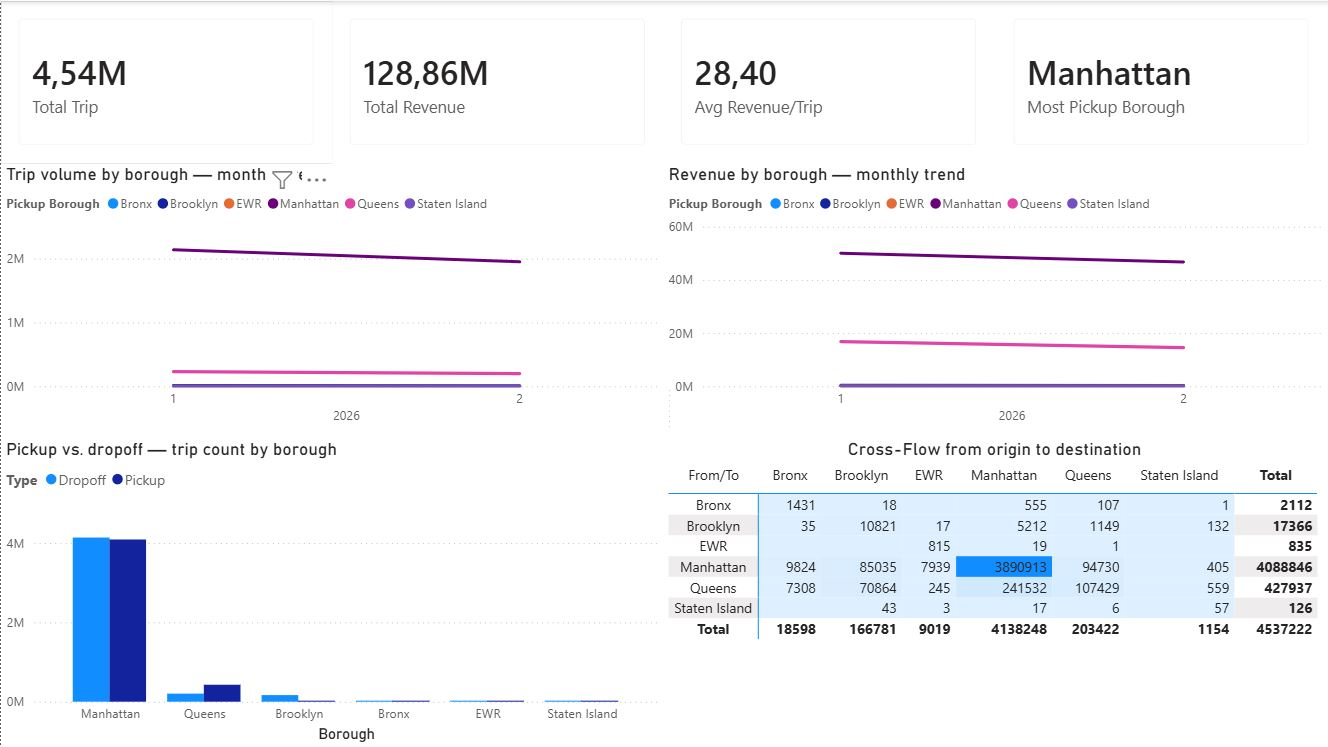

The page's visual inventory and layout, read from the dashboard file:
{"tool":"powerbi","page":{"name":"Page 1","canvas":[1280,720],"ordinal":0},"visuals":[{"type":"lineChart","title":"Trip volume by borough — monthly trend","fields":{"Series":["agg_yellow_taxi_borough_monthly.pickup_borough"],"Category":["agg_yellow_taxi_borough_monthly.pickup_year","agg_yellow_taxi_borough_monthly.pickup_month"],"Y":["Sum(agg_yellow_taxi_borough_monthly.total_trips)"]},"box":[0,156.4,639.5,266.2],"z":0},{"type":"clusteredColumnChart","title":"Pickup vs. dropoff — trip count by borough","fields":{"Y":["Sum(Borough_Comparison.Trips)"],"Category":["Borough_Comparison.Borough"],"Series":["Borough_Comparison.Type"]},"box":[0,422.6,639.5,297.8],"z":1000},{"type":"lineChart","title":"Revenue by borough — monthly trend","fields":{"Category":["agg_yellow_taxi_borough_monthly.pickup_year","agg_yellow_taxi_borough_monthly.pickup_month"],"Y":["Sum(agg_yellow_taxi_borough_monthly.total_revenue)"],"Series":["agg_yellow_taxi_borough_monthly.pickup_borough"]},"box":[639.5,156.4,639.5,266.2],"z":3000},{"type":"cardVisual","fields":{"Data":["Sum(agg_yellow_taxi_borough_monthly.total_trips)"]},"box":[0,0,319.7,156.8],"z":4000},{"type":"cardVisual","fields":{"Data":["Sum(agg_yellow_taxi_borough_monthly.total_revenue)"]},"box":[319.7,0,319.7,156.8],"z":5000},{"type":"cardVisual","fields":{"Data":["agg_yellow_taxi_borough_monthly.Avg_Revenue_Per_Trip"]},"box":[639.4,0,319.7,156.8],"z":6000},{"type":"cardVisual","fields":{"Data":["agg_yellow_taxi_borough_monthly.Top_Pickup_Borough"]},"box":[960.3,0,319.7,156.8],"z":7000},{"type":"pivotTable","title":"Cross-Flow from origin to destination","fields":{"Rows":["agg_yellow_taxi_borough_monthly.pickup_borough"],"Columns":["agg_yellow_taxi_borough_monthly.dropoff_borough"],"Values":["Sum(agg_yellow_taxi_borough_monthly.total_trips)"]},"box":[639.4,422.3,639.4,208.7],"z":7001}]}

Visuals, with their boxes in screenshot pixels (x1, y1, x2, y2), scaled from the page's 1280x720 canvas onto the 1328x747 screenshot:
"Trip volume by borough — monthly trend" lineChart: 0, 162, 663, 438
"Pickup vs. dropoff — trip count by borough" clusteredColumnChart: 0, 438, 663, 746
"Revenue by borough — monthly trend" lineChart: 663, 162, 1327, 438
cardVisual - Sum(agg_yellow_taxi_borough_monthly.total_trips): 0, 0, 332, 163
cardVisual - Sum(agg_yellow_taxi_borough_monthly.total_revenue): 332, 0, 663, 163
cardVisual - agg_yellow_taxi_borough_monthly.Avg_Revenue_Per_Trip: 663, 0, 995, 163
cardVisual - agg_yellow_taxi_borough_monthly.Top_Pickup_Borough: 996, 0, 1327, 163
"Cross-Flow from origin to destination" pivotTable: 663, 438, 1327, 655
